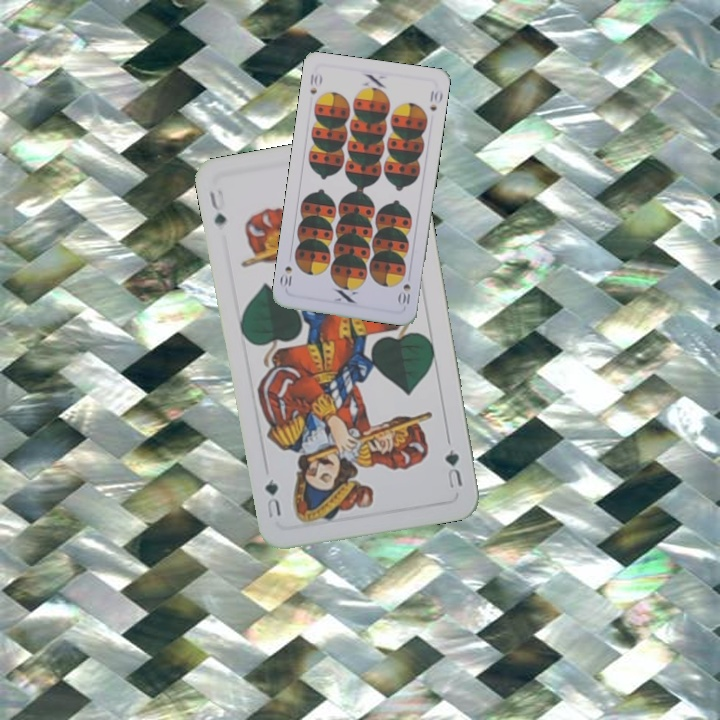GU: (440, 445, 465, 491), (205, 185, 229, 229)
S10: (395, 279, 414, 307), (306, 70, 324, 97)
